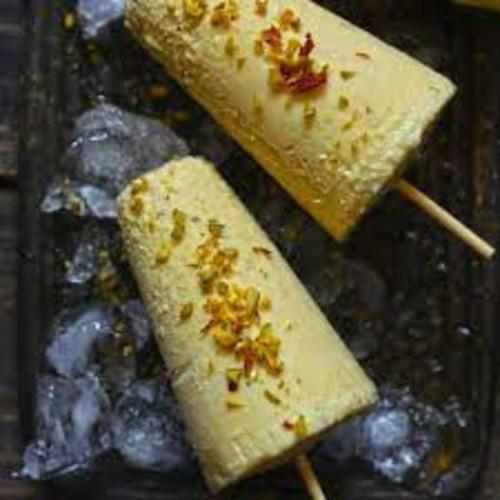Kulfi: (111, 155, 378, 500), (125, 0, 459, 237)
